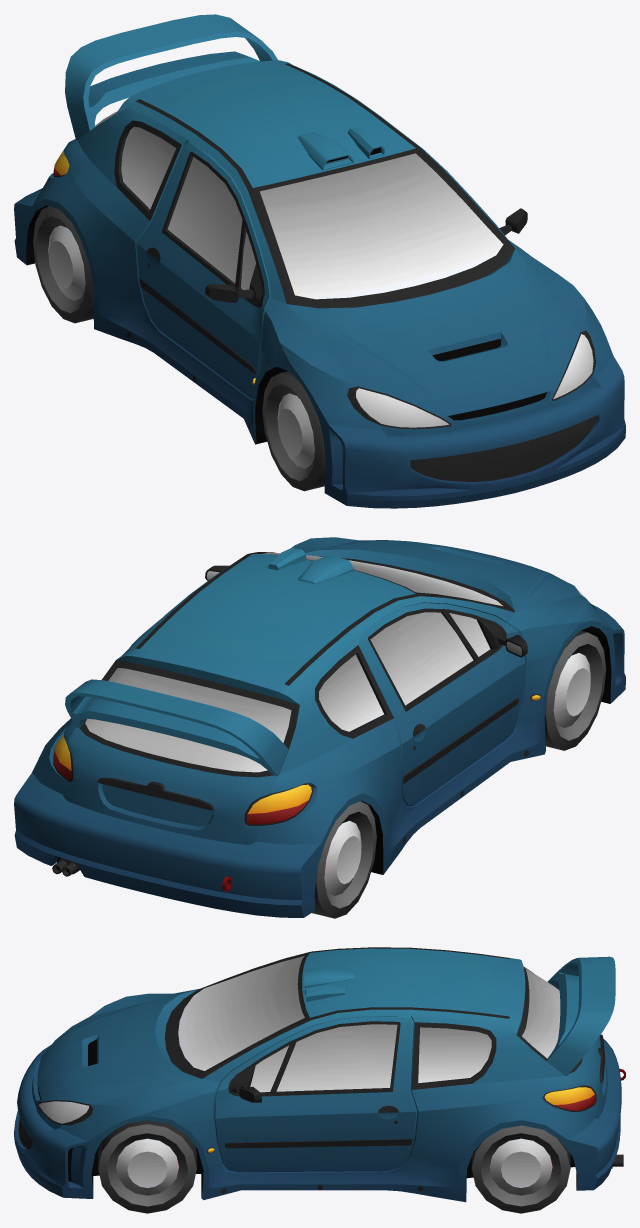
3 views of the same model, one above another, from view 1: azimuth 30°, elevation 25°; view 2: azimuth 150°, elevation 25°; view 3: azimuth 270°, elevation 25° (orthographic). The views are drawn at different scales.
Parts seen in each view (by area): view 1: part4, wheel_RF, wheel_RB; view 2: part4, wheel_RF, wheel_RB; view 3: part4, wheel_LF, wheel_LB.
Boxes of the visible parts, x1,y1,x2,y2 form: part4: (14,14,625,508); wheel_RF: (262,371,325,491); wheel_RB: (33,206,93,323); part4: (14,537,625,917); wheel_RF: (544,631,606,750); wheel_RB: (312,801,376,918); part4: (14,947,625,1202); wheel_LF: (98,1120,196,1213); wheel_LB: (471,1125,570,1213).
Bounding box in the file's own units: 1.88 × 1.29 × 3.84.
1 material, 1 textured.
